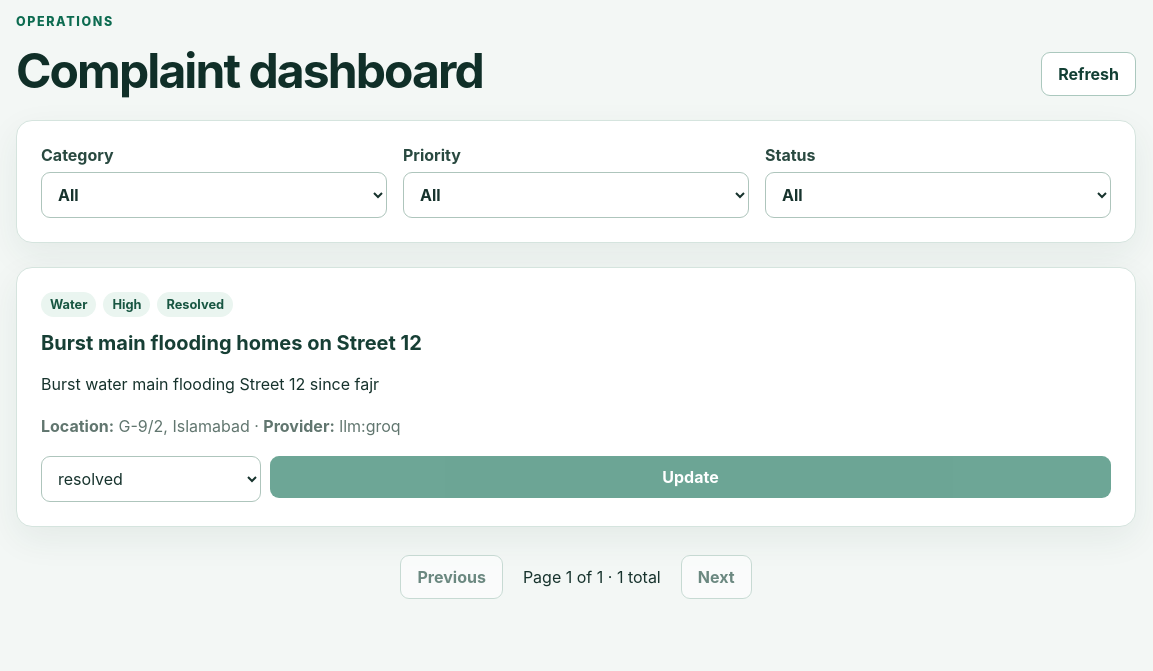
Test case: Dashboard › surfaces the server's 409 message verbatim on an invalid transition
The image size is (1153, 671).
Step 1. Select "open" in the dropdown named "New status" → x=151, y=479, box [41,456,261,502]
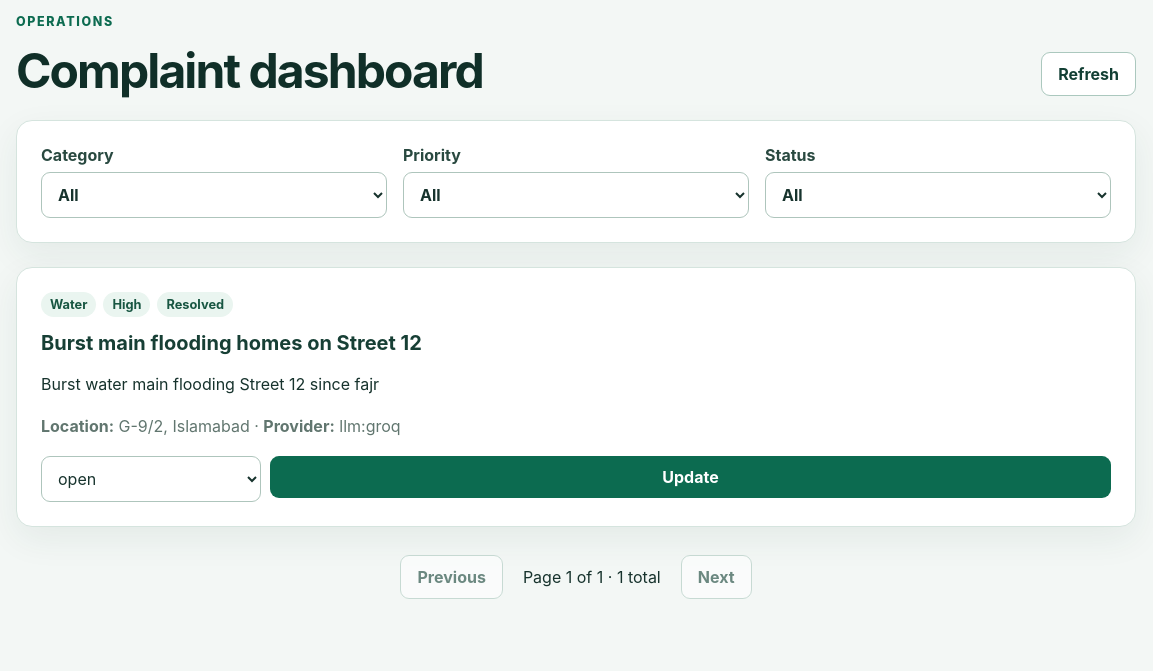
Step 2. Click the button "Update" → x=690, y=477, box [270,456,1111,498]
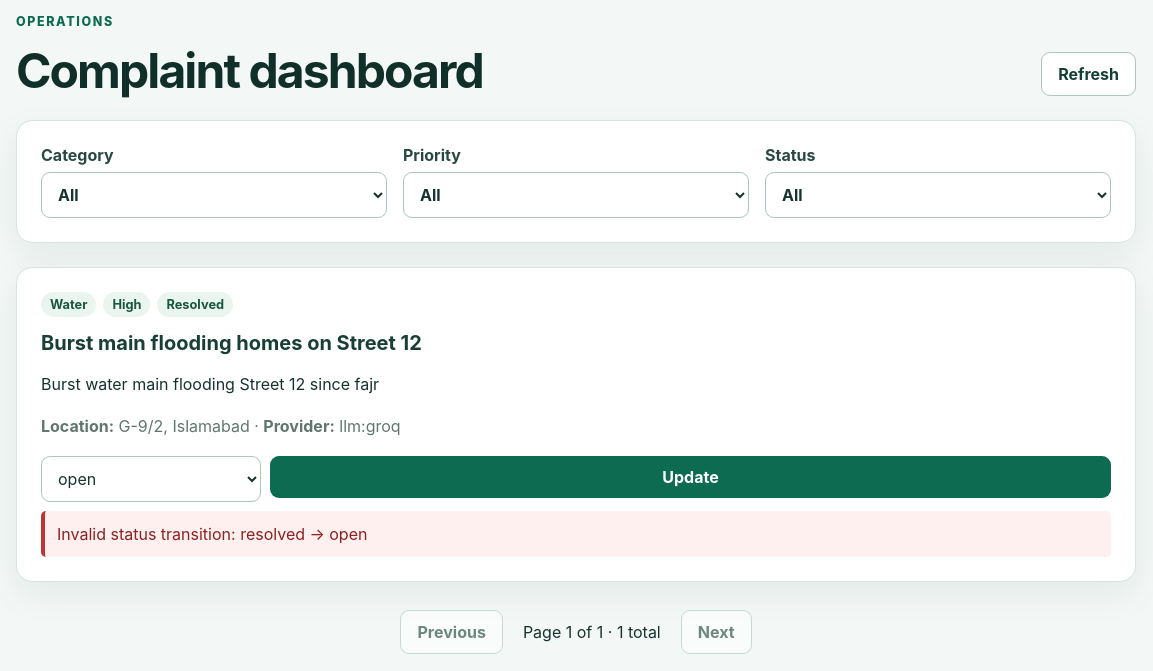
Result: the message reads "Invalid status transition: resolved -> open" at [57,524,368,544]
